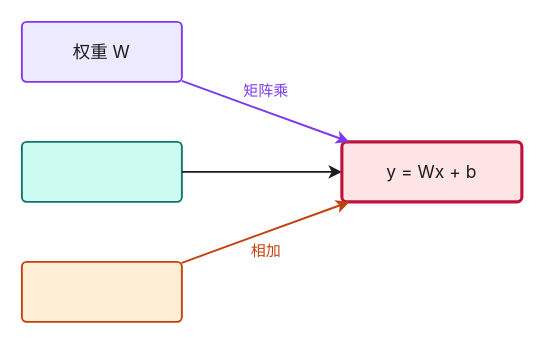
This 545x345 diagram has some shape labels left out. Each missing label, with the box of its shape:
偏置 b: (20, 260, 182, 322)
输入 x: (20, 140, 182, 202)
